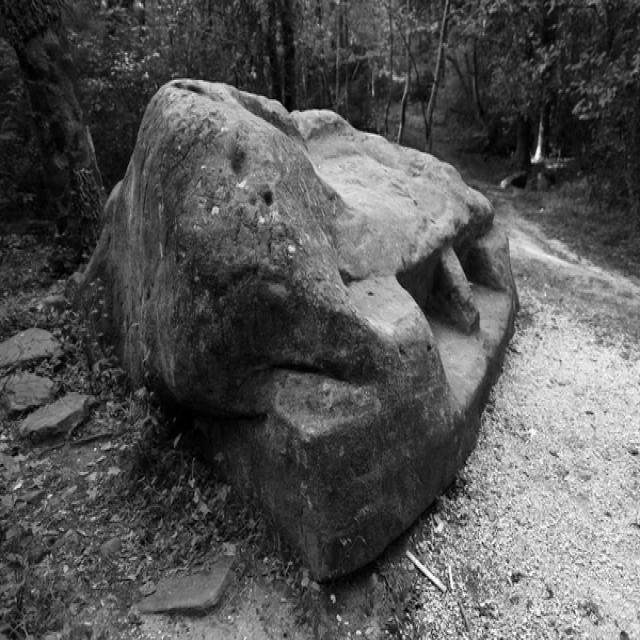Stone: (89, 78, 518, 580)
